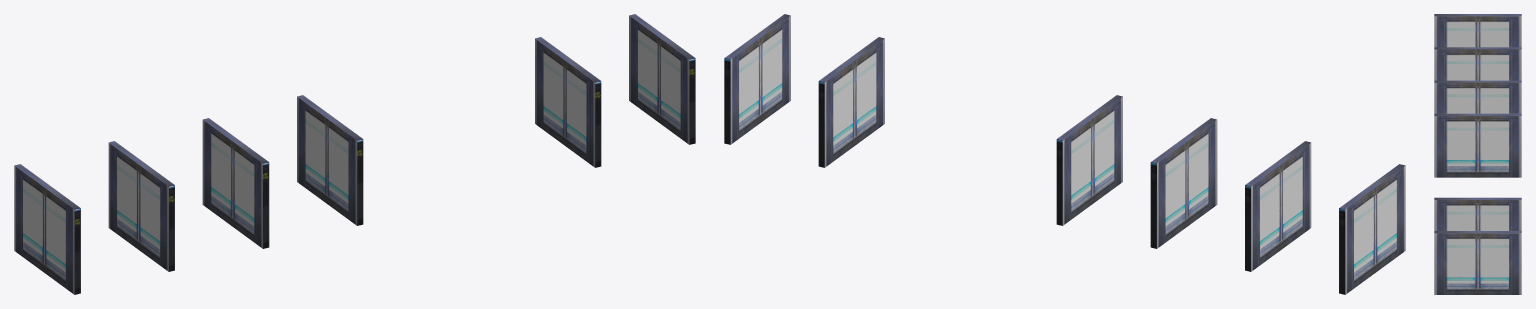
File: Tourniquet02_Group.FBX
3 renders of one model, left to right at view 1: azimuth 30°, elevation 25°; view 2: azimuth 150°, elevation 25°; view 3: azimuth 270°, elevation 25°, orthographic. The views are drawn at different scales.
Visible parts, largest first — view 1: Tourniquet02_Group; view 2: Tourniquet02_Group; view 3: Tourniquet02_Group.
Boxes of the visible parts, box(x1,y1,x2,y2) form: Tourniquet02_Group: box(14, 14, 695, 294); Tourniquet02_Group: box(724, 14, 1405, 294); Tourniquet02_Group: box(1434, 14, 1521, 294).
Bounding box in the file's own units: 9518 × 1250 × 1600.
